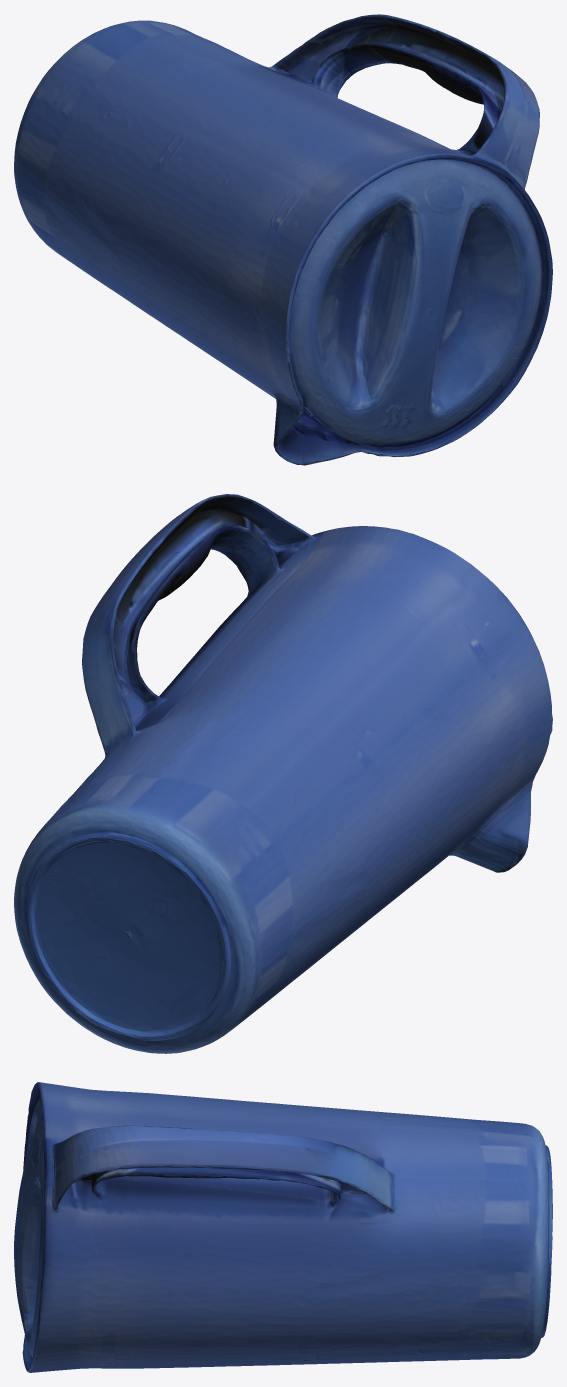
The model's file is pitcher_base.glb.
The picture shows the model from 3 angles, top to bottom: view 1: azimuth 30°, elevation 25°; view 2: azimuth 150°, elevation 25°; view 3: azimuth 270°, elevation 25°; orthographic projection. The views are drawn at different scales.
Visible parts, largest first — view 1: textured.obj; view 2: textured.obj; view 3: textured.obj.
Boxes of the visible parts, x1,y1,x2,y2 form: textured.obj: (14,14,552,465); textured.obj: (14,494,552,1053); textured.obj: (14,1082,552,1372).
Bounding box in the file's own units: 0.1428 × 0.1461 × 0.2456.
Materials: 1 (1 with a texture image).
